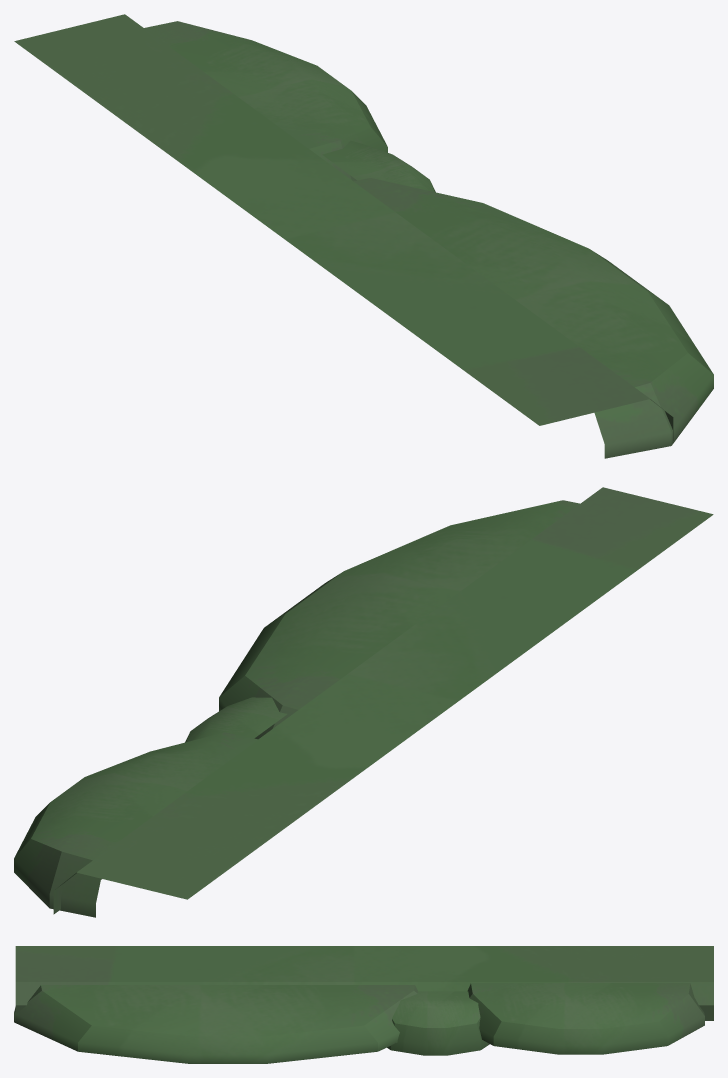
The model's file is GrassFlatSideV1.fbx.
The picture shows the model from 3 angles, top to bottom: view 1: azimuth 30°, elevation 25°; view 2: azimuth 150°, elevation 25°; view 3: azimuth 270°, elevation 25°; orthographic projection. The views are drawn at different scales.
Visible parts, largest first — view 1: Variation_1; view 2: Variation_1; view 3: Variation_1.
Boxes of the visible parts, x1=… form: Variation_1: x1=14, y1=14, x2=713, y2=458; Variation_1: x1=14, y1=487, x2=713, y2=917; Variation_1: x1=14, y1=946, x2=713, y2=1063.
Size of the model in its own units: 56.89 by 13.47 by 200.
